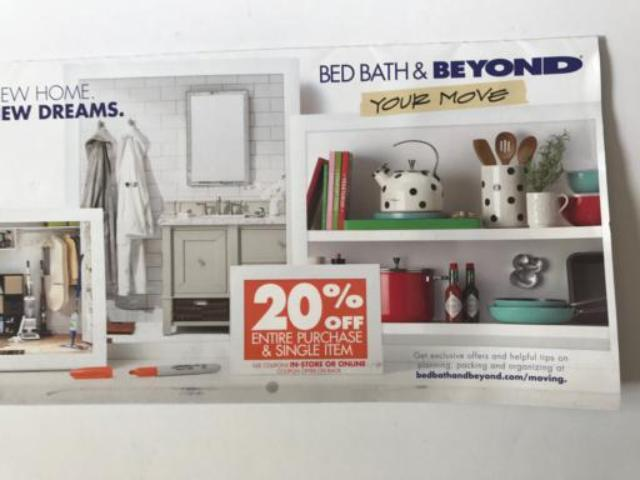cardboard paper: (0, 36, 620, 410)
